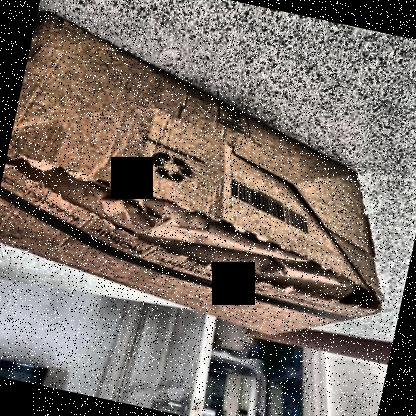defect parcel: (0, 101, 415, 337)
